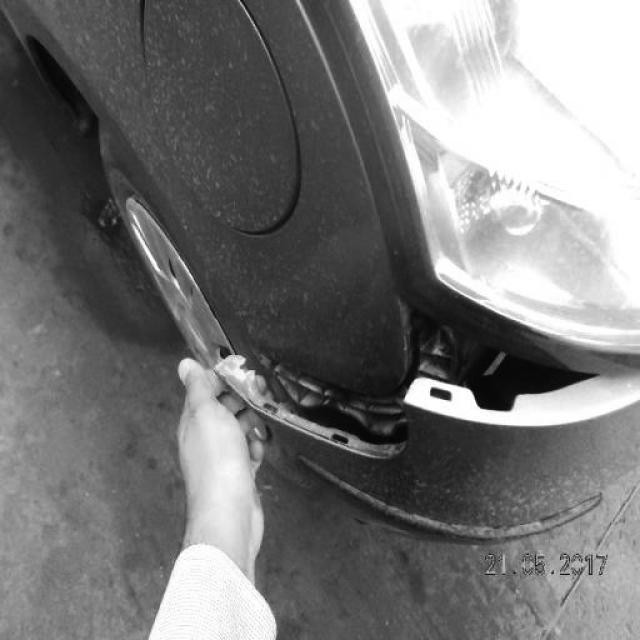car damage: (219, 298, 601, 466)
